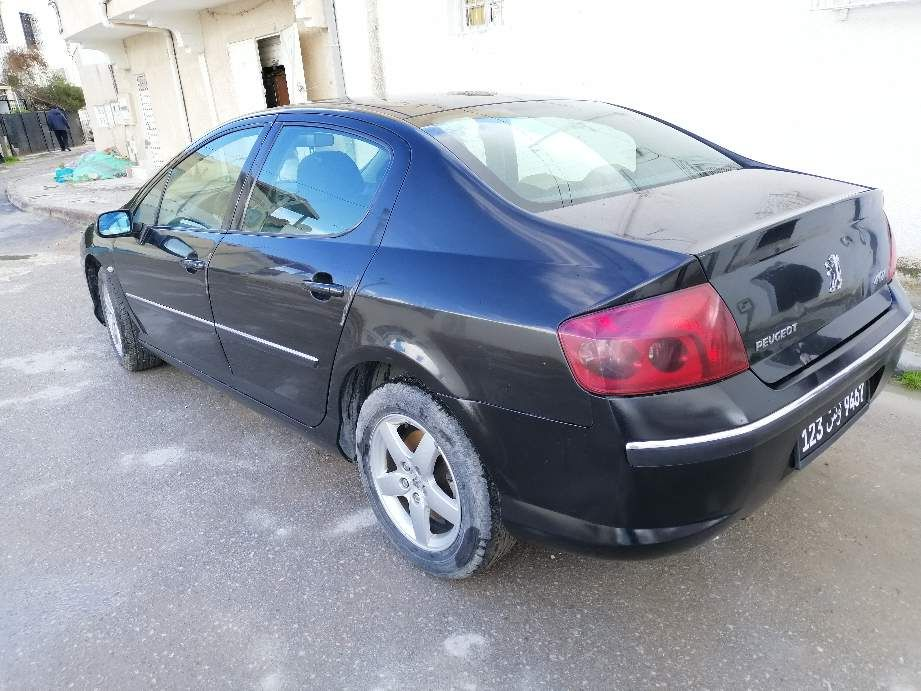LP: (793, 384, 873, 455)
